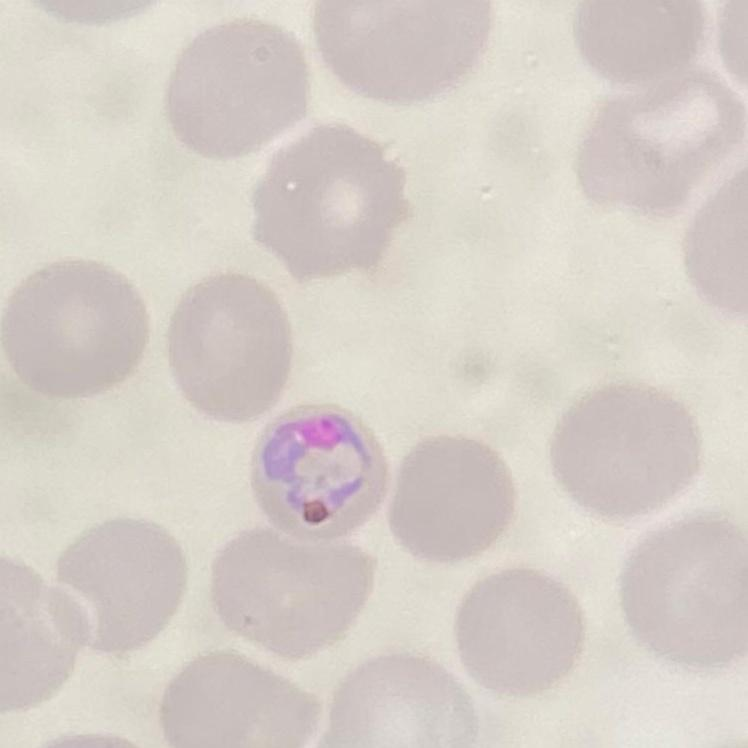Infected: (246, 403, 385, 542)
Uninfected: (252, 119, 405, 275), (582, 73, 735, 218), (552, 383, 709, 522), (210, 523, 370, 655), (6, 259, 149, 400), (620, 515, 748, 667), (166, 275, 290, 428), (166, 19, 310, 150), (311, 0, 492, 99), (52, 519, 186, 650), (386, 433, 511, 564), (454, 571, 586, 689), (162, 651, 313, 748), (328, 653, 467, 748), (576, 0, 703, 93), (0, 563, 83, 705)
